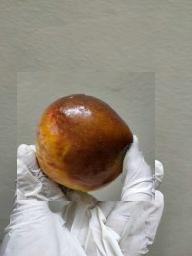Apple Rotten: (17, 73, 155, 202)
